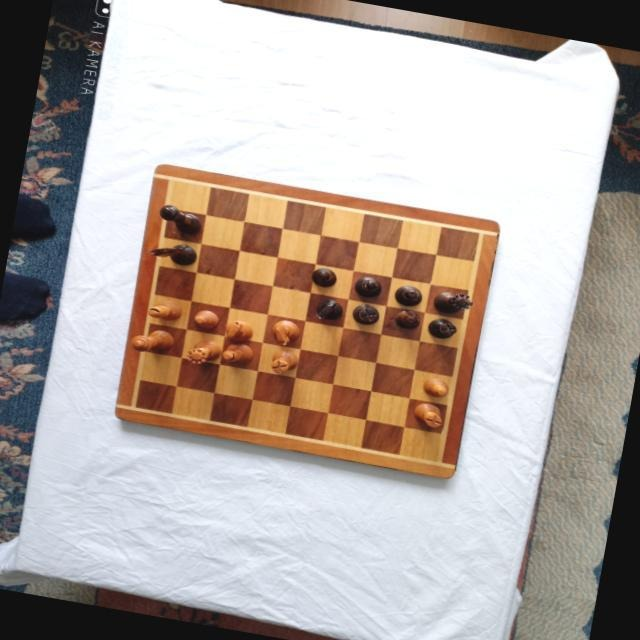black-bishop: (351, 273, 382, 299), (392, 283, 423, 309)
black-king: (155, 204, 203, 236)
black-knight: (146, 238, 197, 267), (312, 297, 343, 323)
black-pawn: (307, 265, 336, 288), (392, 309, 420, 331)
black-queen: (431, 288, 473, 318)
black-rook: (425, 315, 458, 340), (350, 301, 380, 326)
white-bishop: (144, 297, 183, 323), (219, 340, 253, 367)
white-king: (129, 325, 175, 356)
white-knight: (268, 319, 299, 347), (222, 318, 253, 344)
white-pawn: (192, 307, 220, 331), (419, 377, 448, 399)
white-queen: (183, 336, 221, 368)
white-rook: (410, 400, 444, 428), (266, 348, 297, 376)
